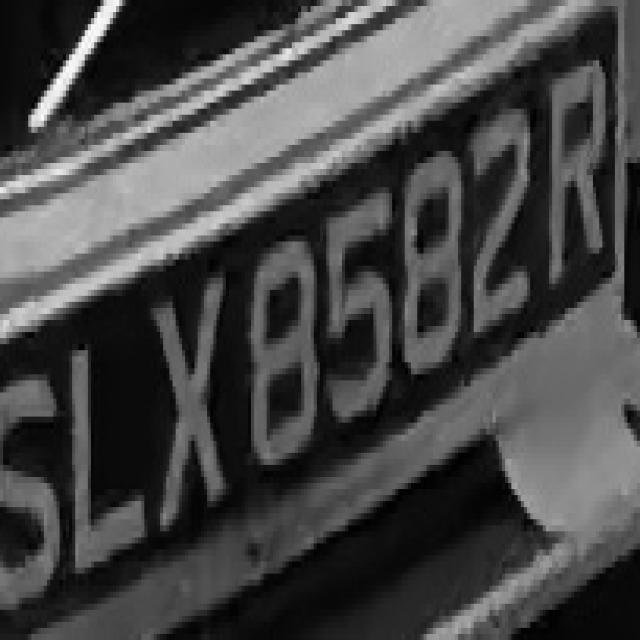2: (464, 103, 540, 344)
5: (317, 175, 395, 429)
8: (245, 217, 323, 489), (389, 151, 467, 380)
L: (60, 320, 154, 580)
R: (546, 54, 612, 290)
S: (0, 326, 63, 628)
X: (147, 260, 226, 550)
